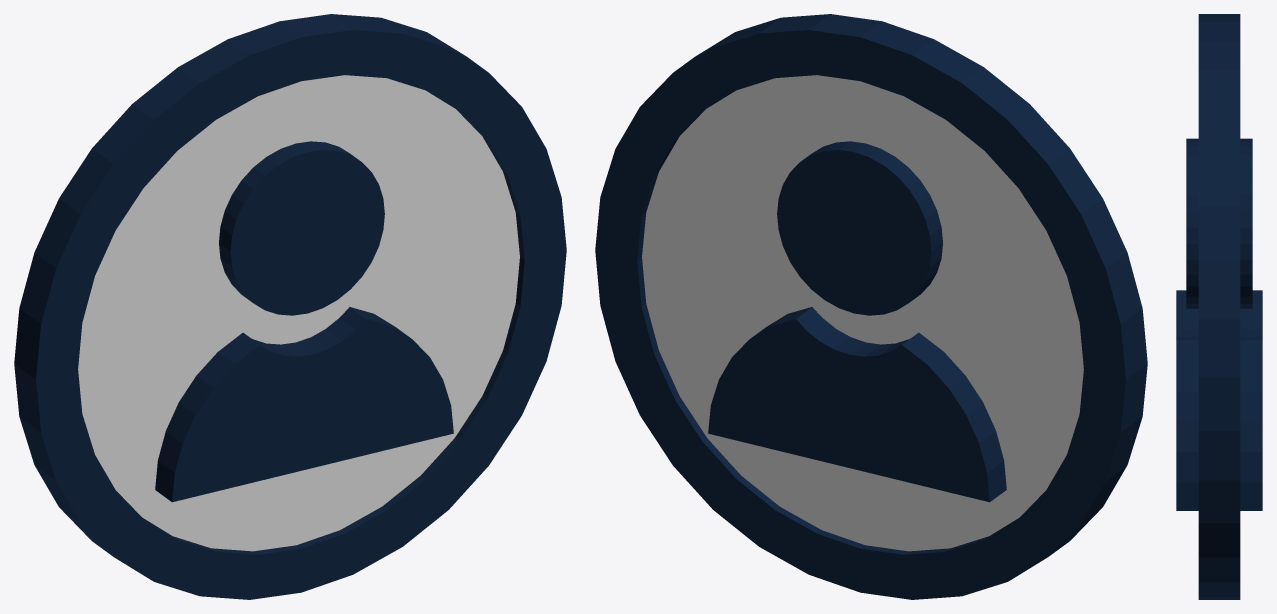
File: peopleIcon.glb
3 renders of one model, left to right at view 1: azimuth 30°, elevation 25°; view 2: azimuth 150°, elevation 25°; view 3: azimuth 270°, elevation 25°, orthographic. The views are drawn at different scales.
Parts seen in each view (by area): view 1: Cube, Cylinder; view 2: Cube, Cylinder; view 3: Cube.
Boxes of the visible parts, <box> form: Cube: <box>14,14,566,599</box>; Cylinder: <box>78,75,519,551</box>; Cube: <box>595,14,1147,599</box>; Cylinder: <box>642,75,1083,551</box>; Cube: <box>1176,14,1262,599</box>.
Bounding box in the file's own units: 4 × 4 × 0.5876.
